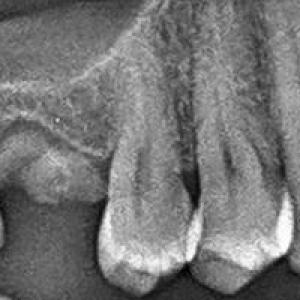tooth: (191, 6, 296, 297), (95, 62, 195, 296), (3, 98, 105, 216)
